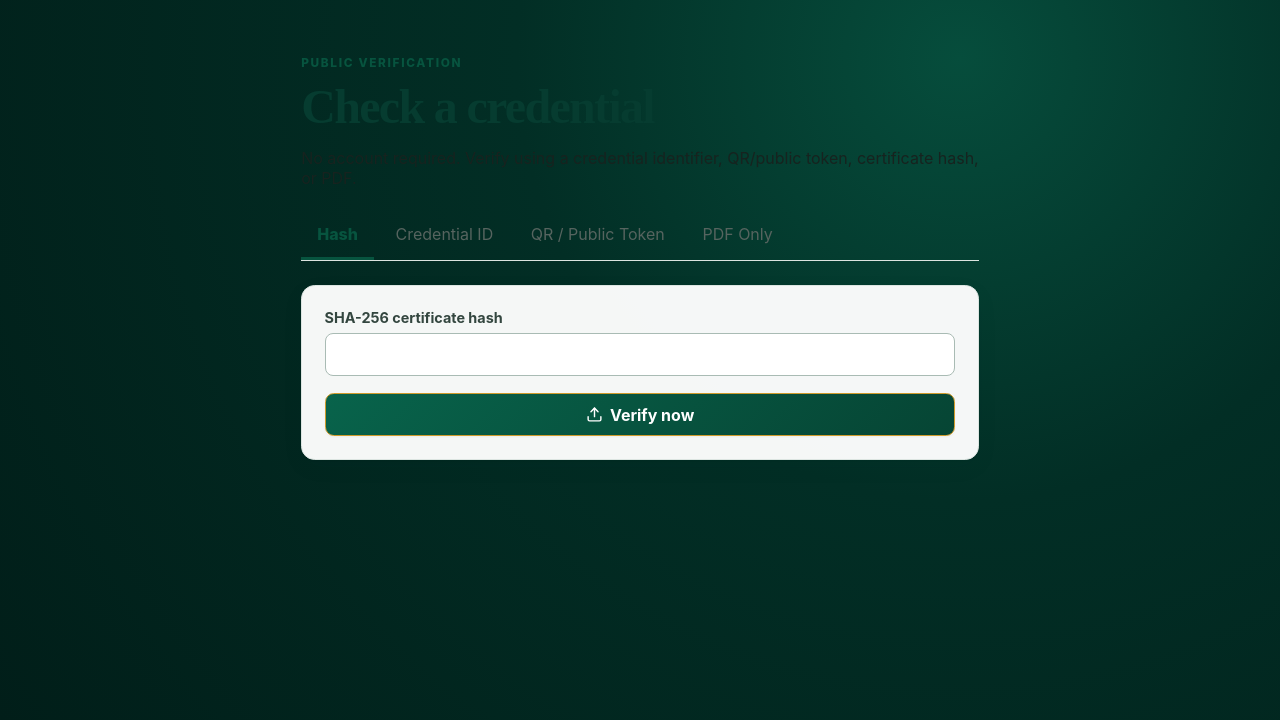
Test: public experience › verifies by hash using the existing API path
Type "aaaaaaaaaaaaaaaaaaaaaaaaaaaaaaaaaaaaaaaaaaaaaaaaaaaaaaaaaaaaaaaa" into the field labelled "SHA-256 certificate hash" at (640, 354), box [325,333,955,376]
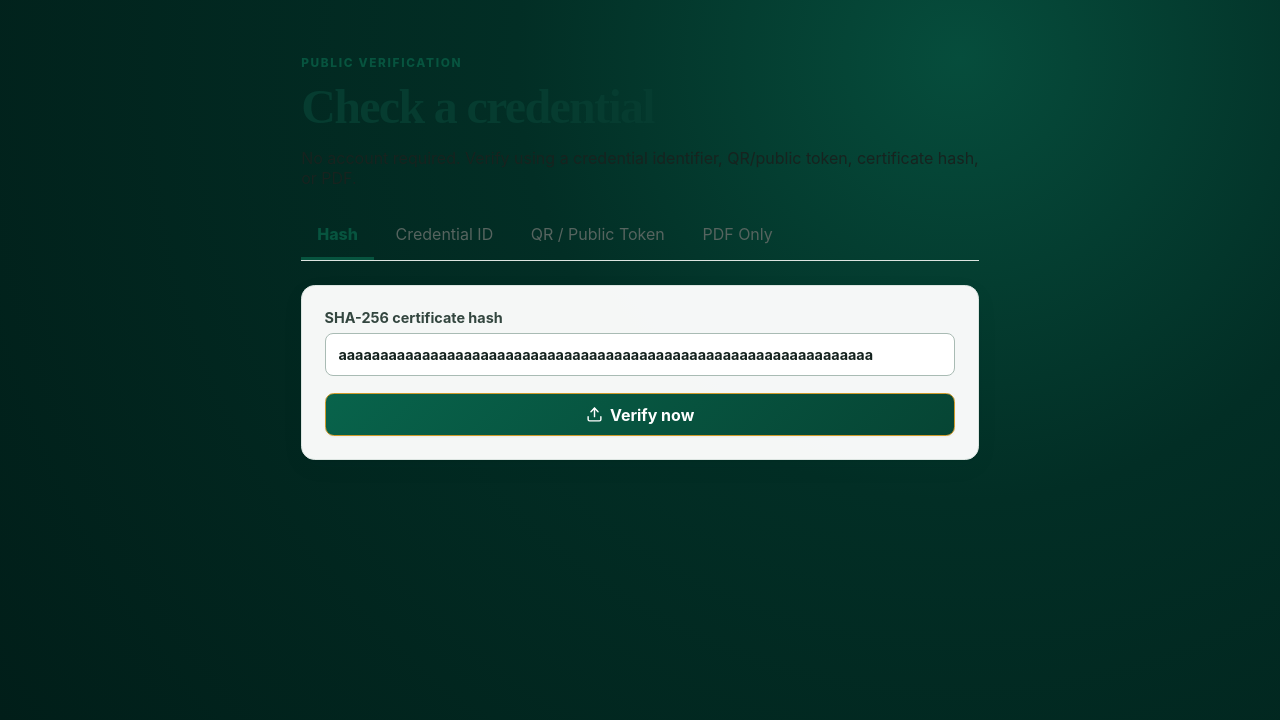
Click the button "Verify now" at (640, 414), box [325,393,955,436]
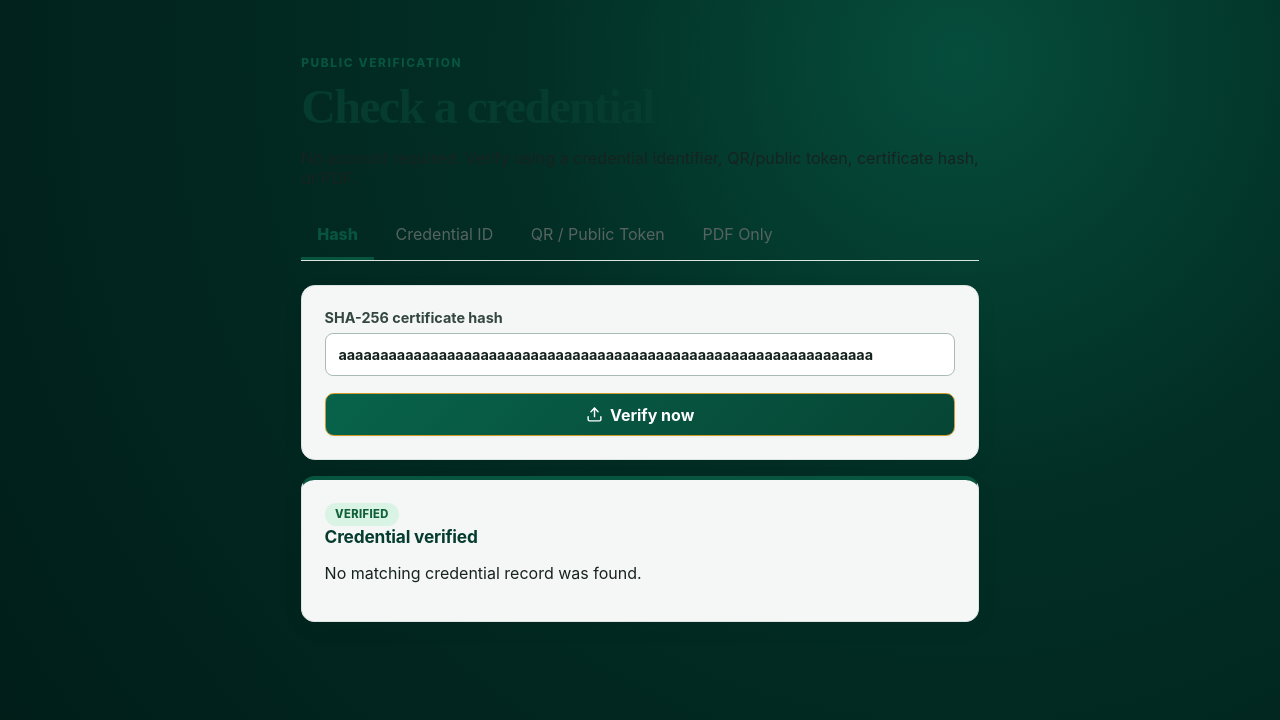
Now the heading "Credential verified" is shown, box [325,526,478,547]
